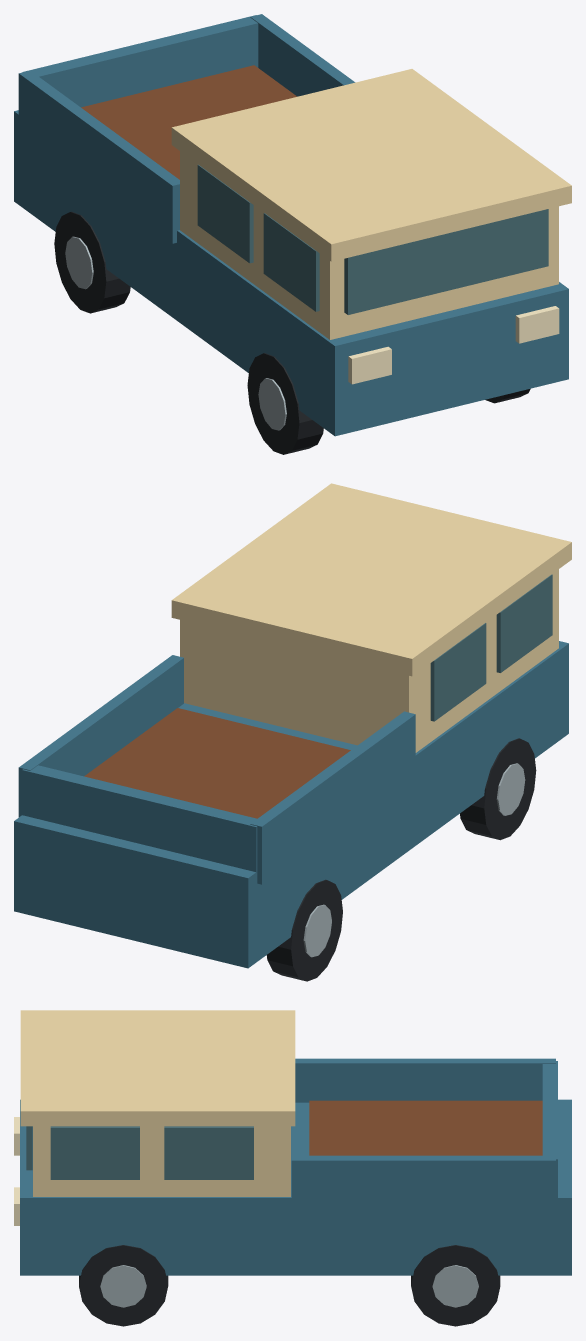
File: Goods_Carrier.glb
3 views of the same model, one above another, from view 1: azimuth 30°, elevation 25°; view 2: azimuth 150°, elevation 25°; view 3: azimuth 270°, elevation 25° (orthographic). The views are drawn at different scales.
Parts seen in each view (by area): view 1: Goods_Carrier, Wheel_1, Wheel_2; view 2: Goods_Carrier, Wheel_2, Wheel_1; view 3: Goods_Carrier, Wheel_3, Wheel_4.
Part boxes in pixels (left/top/right/bottom): Goods_Carrier: left=14, top=14, right=571, bottom=436; Wheel_1: left=247, top=353, right=323, bottom=454; Wheel_2: left=54, top=211, right=130, bottom=313; Goods_Carrier: left=14, top=483, right=571, bottom=968; Wheel_2: left=266, top=879, right=342, bottom=981; Wheel_1: left=460, top=738, right=536, bottom=840; Goods_Carrier: left=14, top=1010, right=571, bottom=1275; Wheel_3: left=79, top=1245, right=168, bottom=1326; Wheel_4: left=411, top=1245, right=500, bottom=1326.
Bounding box in the file's own units: 1.89 × 1.87 × 4.37.
